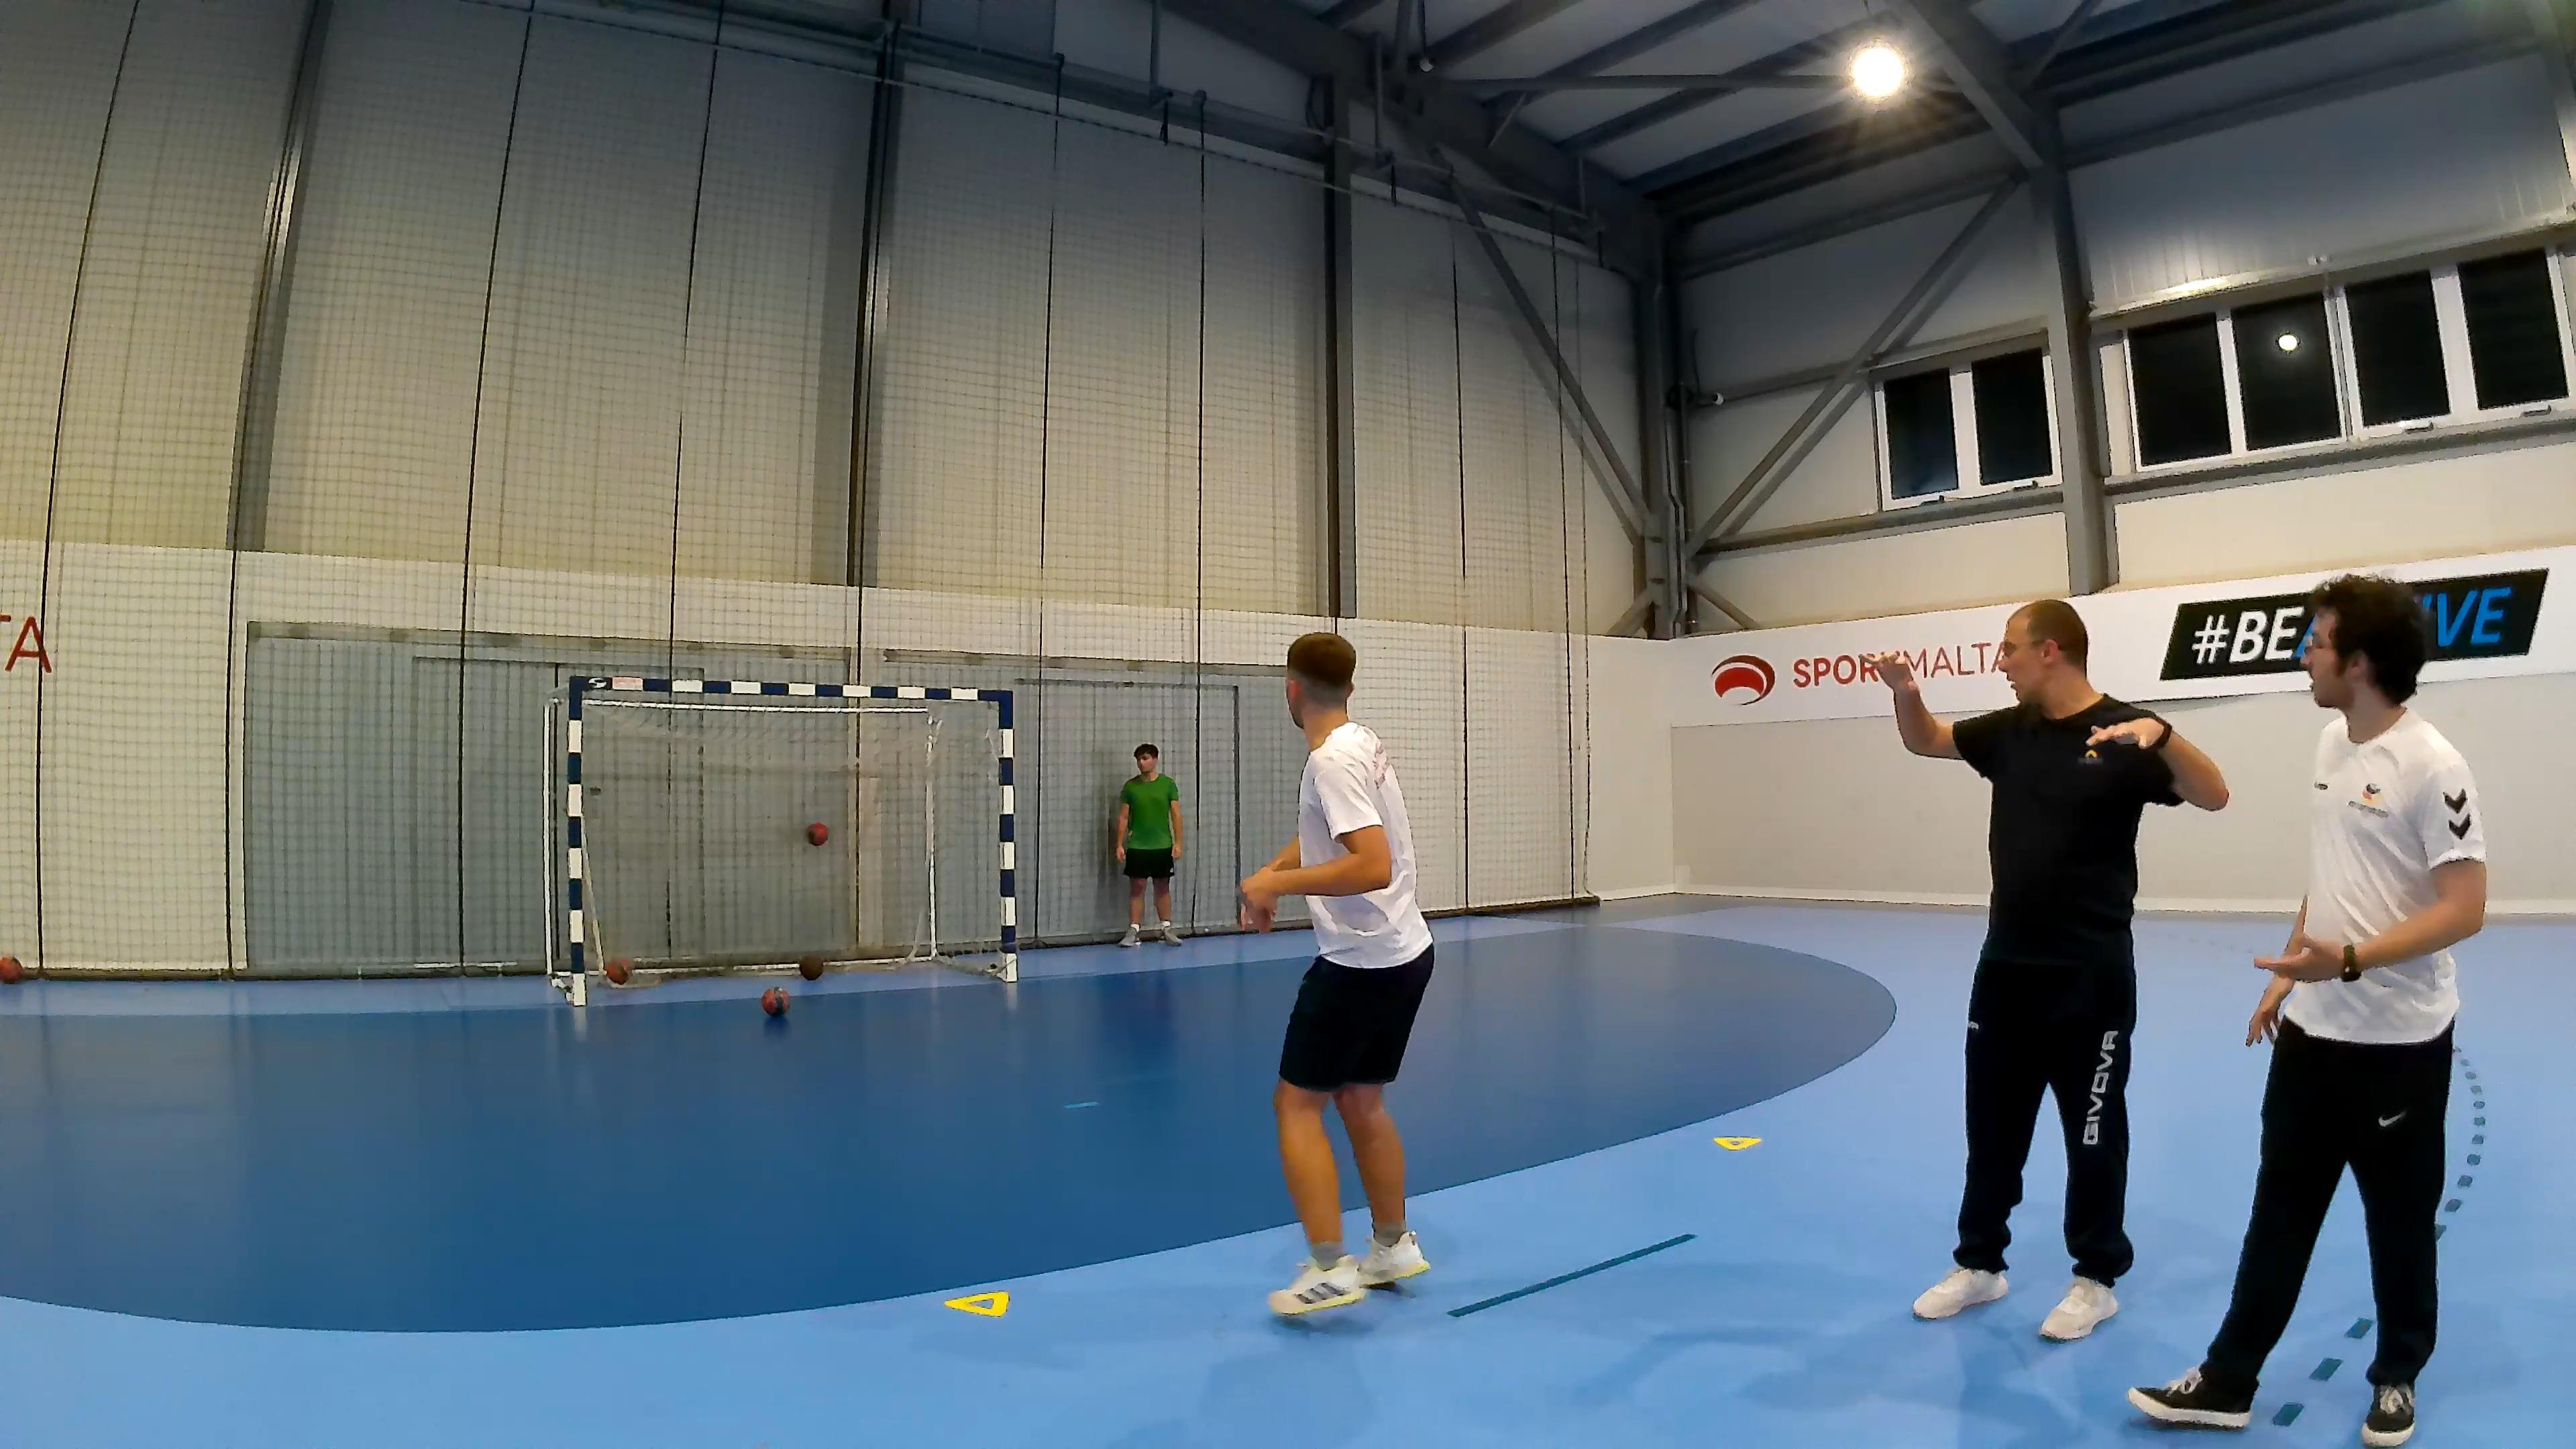handball: (796, 952, 832, 984), (761, 985, 789, 1016), (602, 957, 630, 984), (805, 819, 828, 846)
